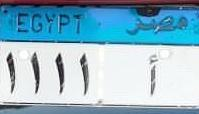1: (77, 54, 93, 93), (53, 53, 67, 92), (29, 54, 42, 95), (4, 52, 17, 93)
alif: (145, 54, 162, 97)
